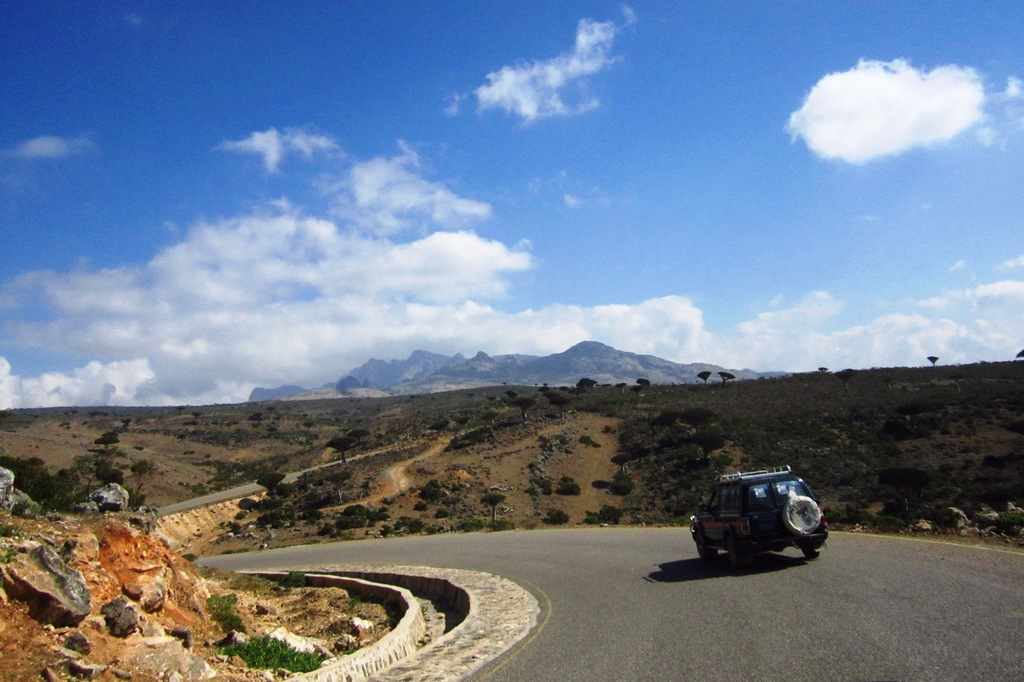mobil: (687, 462, 830, 569)
